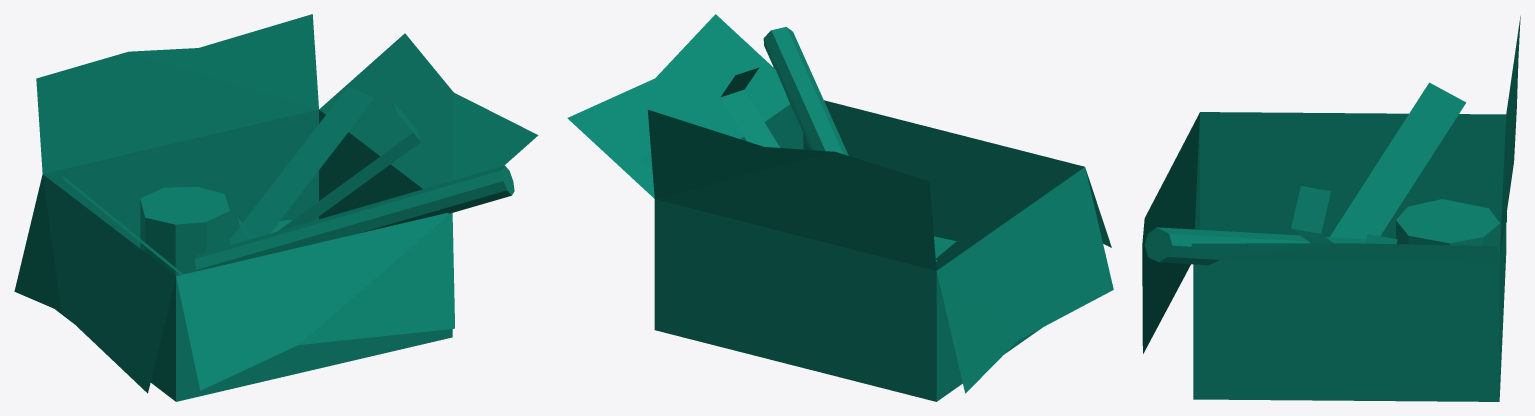
The model's file is Normal Metal Parts.obj.
3 renders of one model, left to right at view 1: azimuth 30°, elevation 25°; view 2: azimuth 150°, elevation 25°; view 3: azimuth 270°, elevation 25°, orthographic. The views are drawn at different scales.
Visible parts, largest first — view 1: Box02; view 2: Box02; view 3: Box02.
Boxes of the visible parts, box(x1,y1,x2,y2) form: Box02: box(14, 14, 538, 401); Box02: box(567, 14, 1113, 401); Box02: box(1142, 16, 1520, 401).
Bounding box in the file's own units: 30.91 × 16.76 × 23.37.
